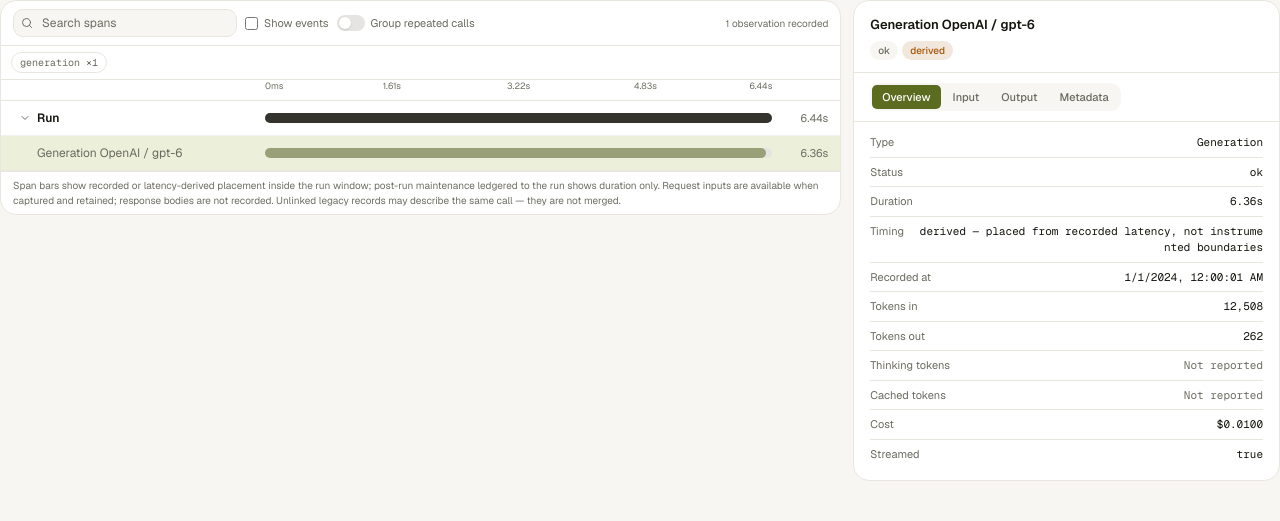
Test case: RunTimeline — corrections › root Input/Output show actual run messages labelled as such
Note: select the root row
Click the list item with test id "trace-row-trace-root" at (421, 118), box left=1, top=101, right=840, bottom=136
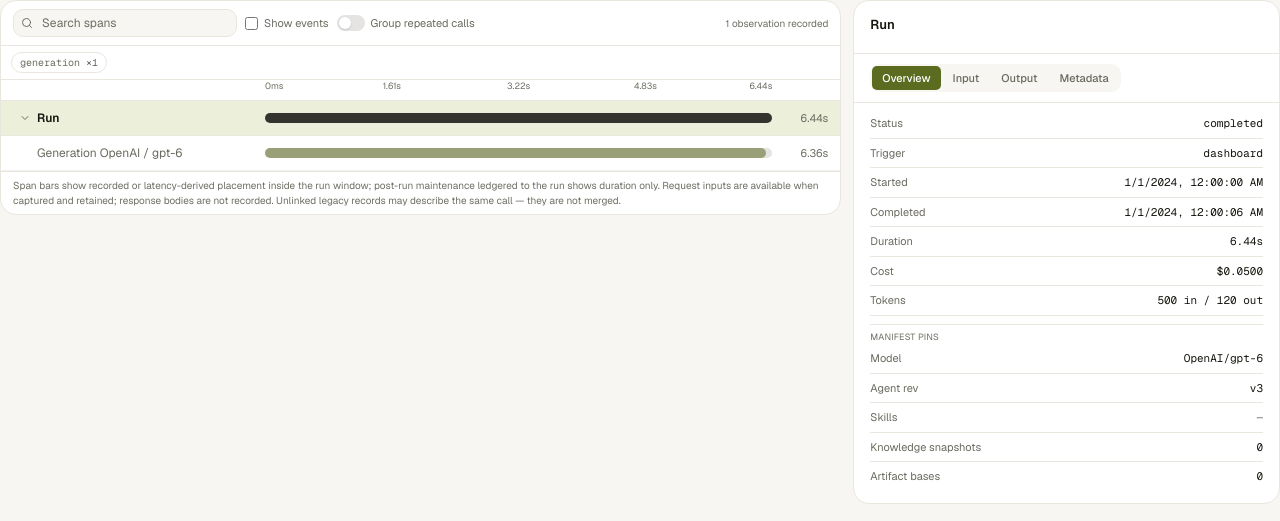
Click the button "Input" at (966, 78), box left=942, top=66, right=989, bottom=90
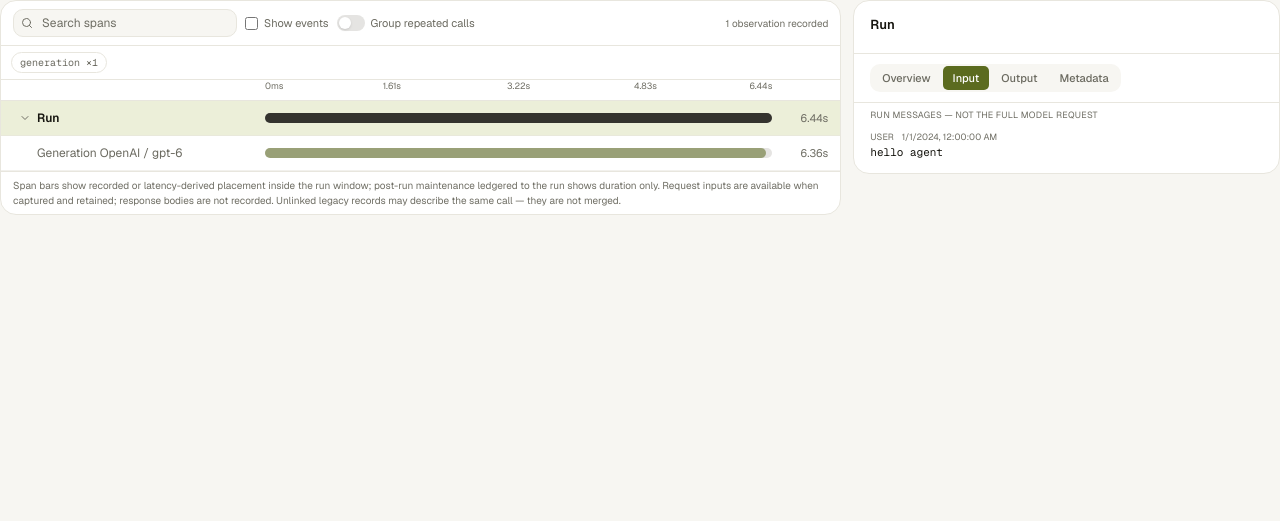
Check: the text "hello agent" is shown, box left=870, top=145, right=943, bottom=159
Check: the text "Run messages — not the full model request" is shown, box left=870, top=109, right=1098, bottom=121
Click the button "Output" at (1019, 78), box left=991, top=66, right=1048, bottom=90
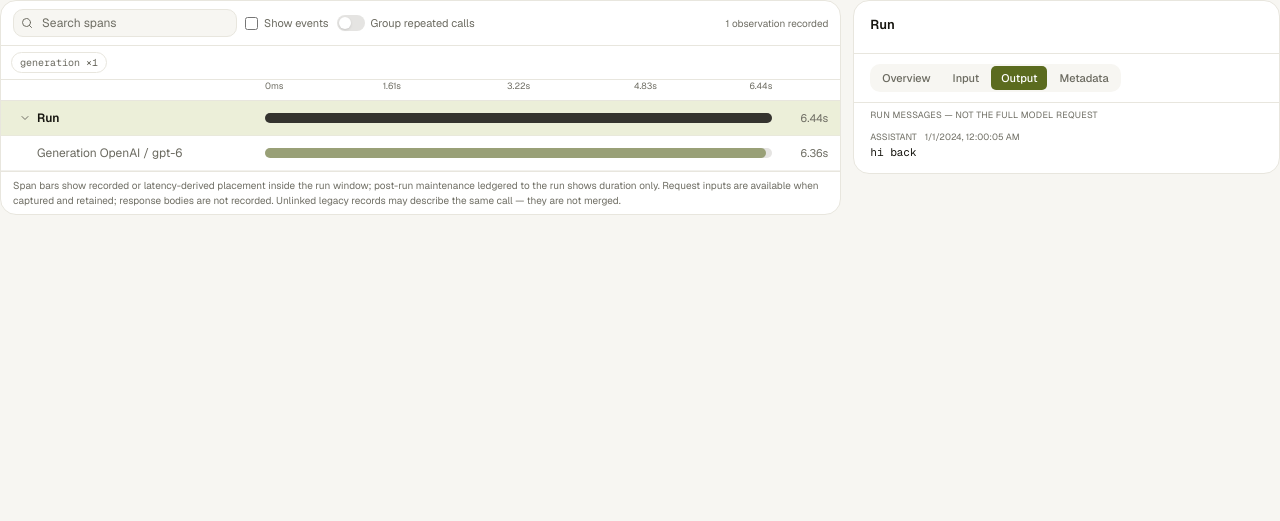
Check: the text "hi back" is shown, box left=870, top=145, right=916, bottom=159
